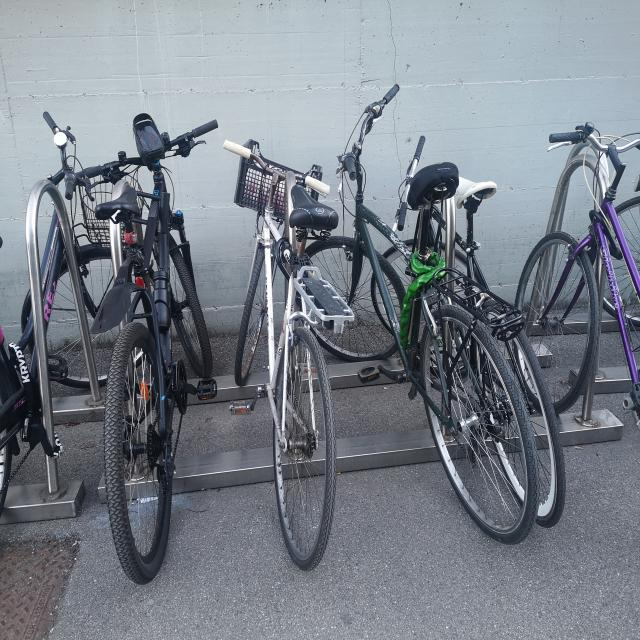Bicycle: (299, 71, 522, 599), (68, 91, 236, 590), (378, 146, 566, 538), (0, 78, 136, 550), (228, 116, 348, 628), (515, 106, 640, 459)
